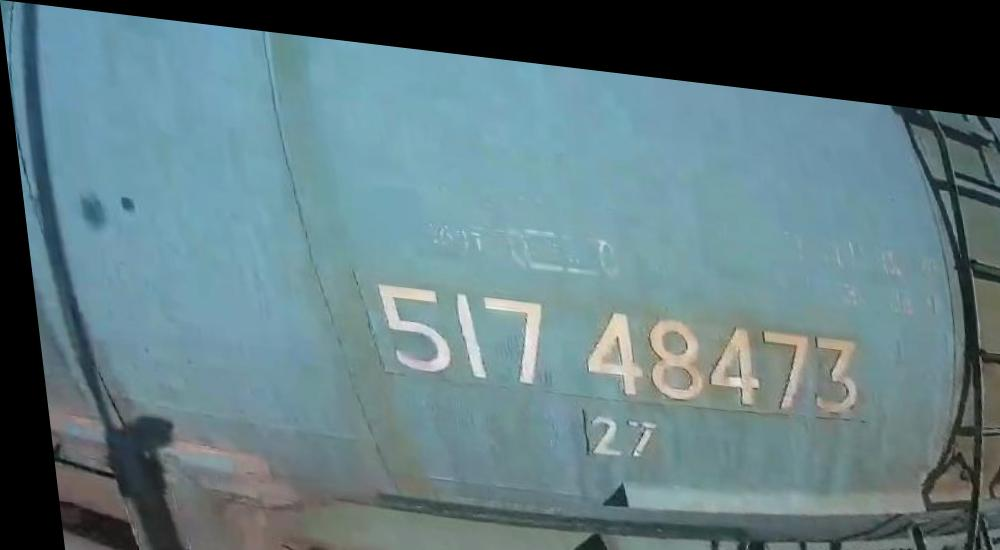Wagon-number: (359, 260, 861, 404)
